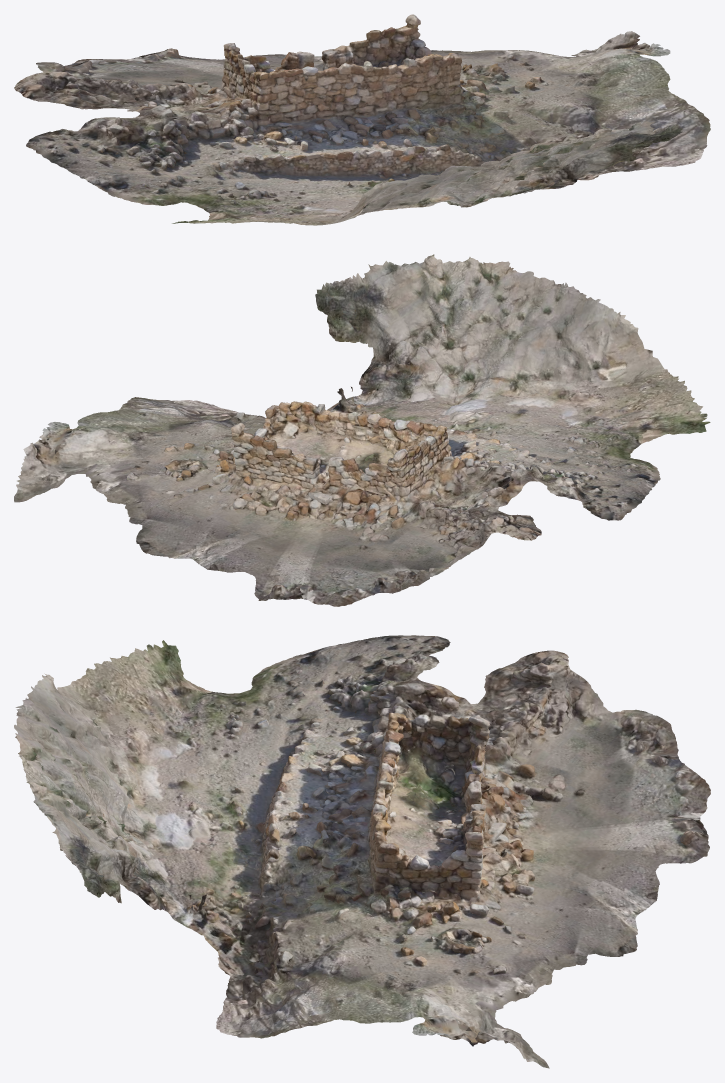
The model's file is desert.glb.
3 views of the same model, one above another, from view 1: azimuth 30°, elevation 25°; view 2: azimuth 150°, elevation 25°; view 3: azimuth 270°, elevation 25° (orthographic). The views are drawn at different scales.
Parts seen in each view (by area): view 1: Object_2; view 2: Object_2; view 3: Object_2.
Boxes of the visible parts, left/top/right/bottom form: Object_2: left=14, top=14, right=710, bottom=225; Object_2: left=14, top=254, right=710, bottom=606; Object_2: left=14, top=635, right=710, bottom=1068.
Size of the model in its own units: 12.27 by 2.94 by 10.62.
Materials: 1 (1 with a texture image).
